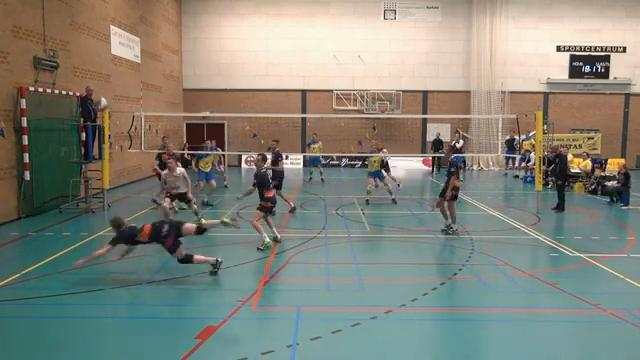difesa: (63, 214, 240, 278)
